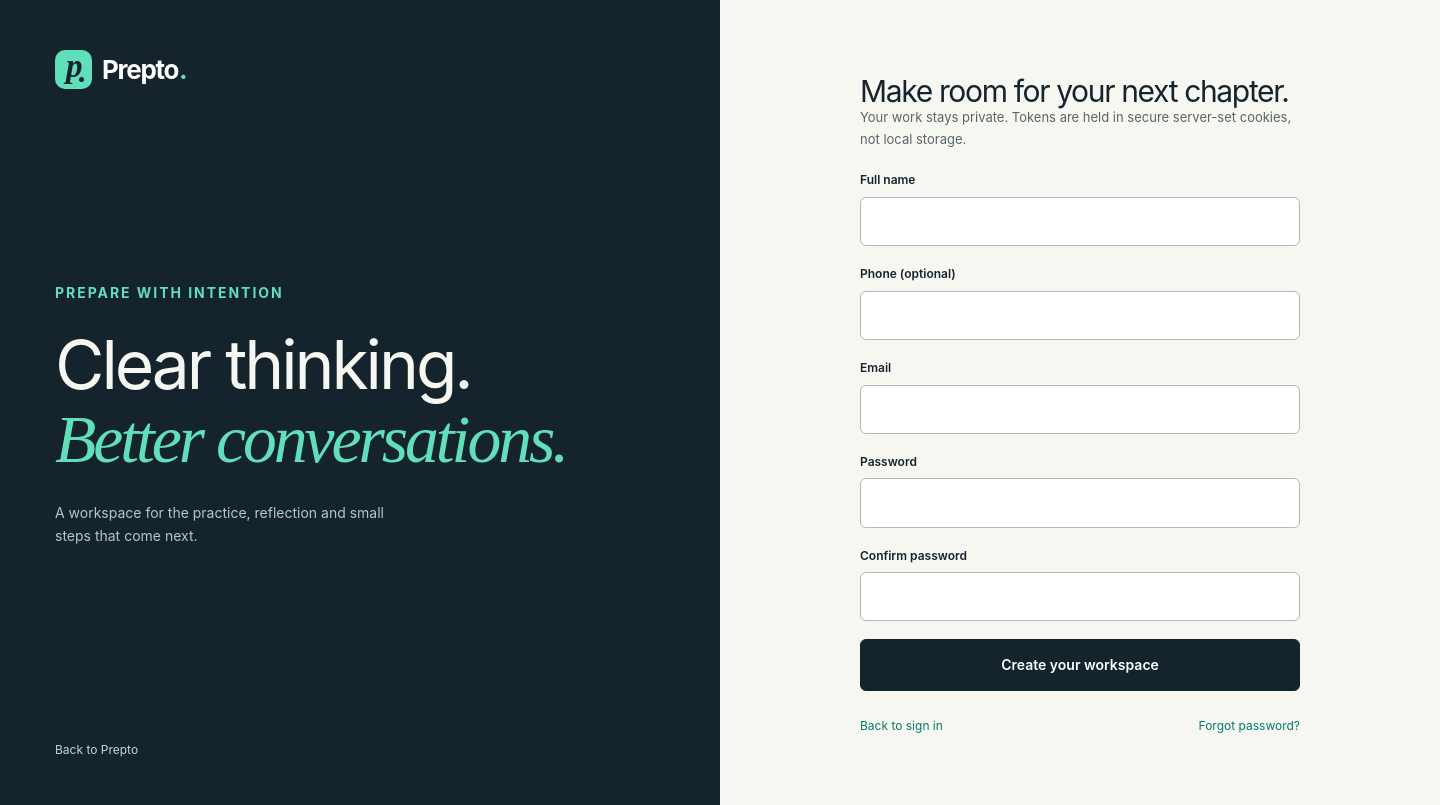
Test: registration provider rejection keeps the form usable without revealing account existence
The image size is (1440, 805).
Expected: the field labelled "Email" is shown, [860,384,1300,434]
Type "Synthetic" into the field labelled "Full name" at (1080, 221), box [860,197,1300,246]
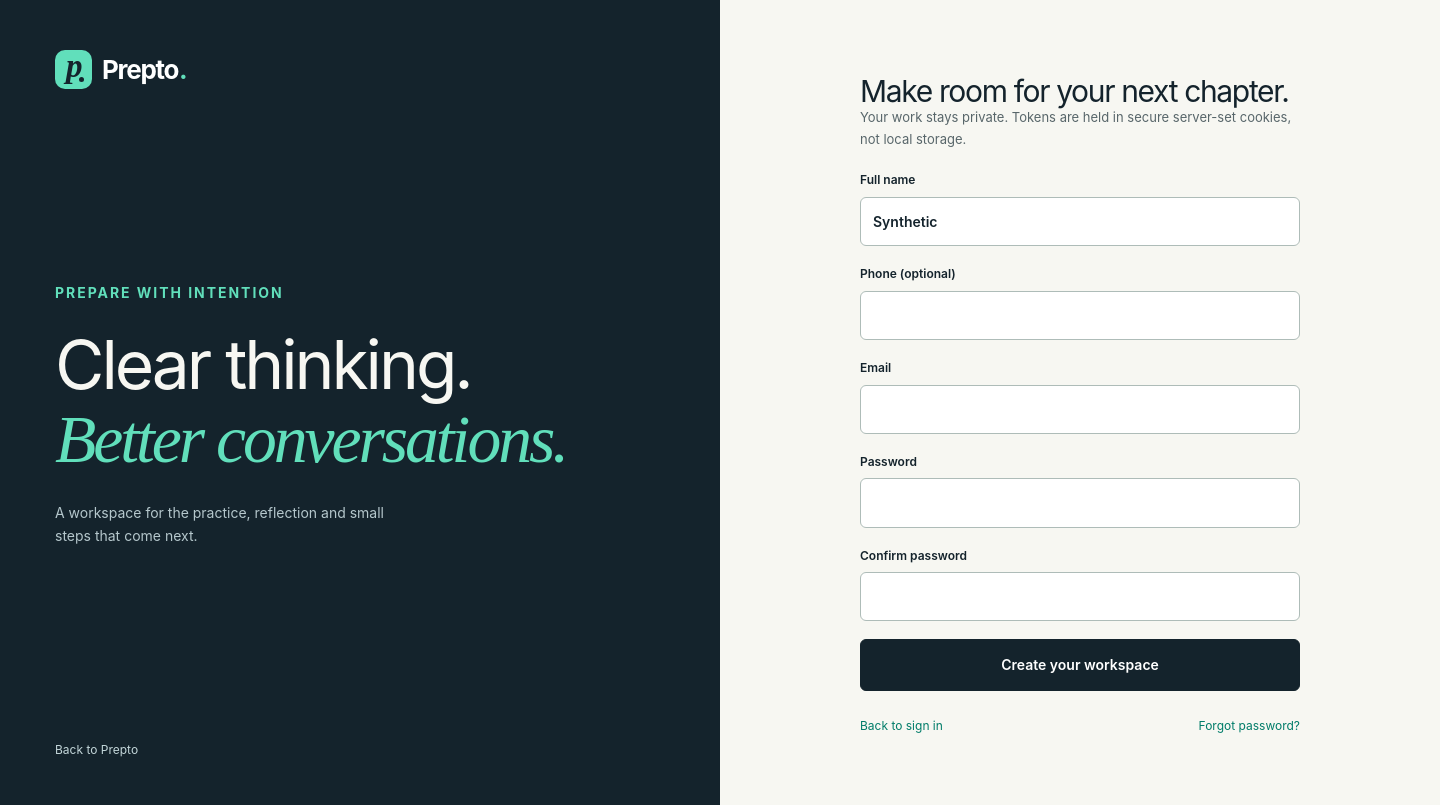
Type "synthetic@example.test" into the field labelled "Email" at (1080, 409), box [860,384,1300,434]
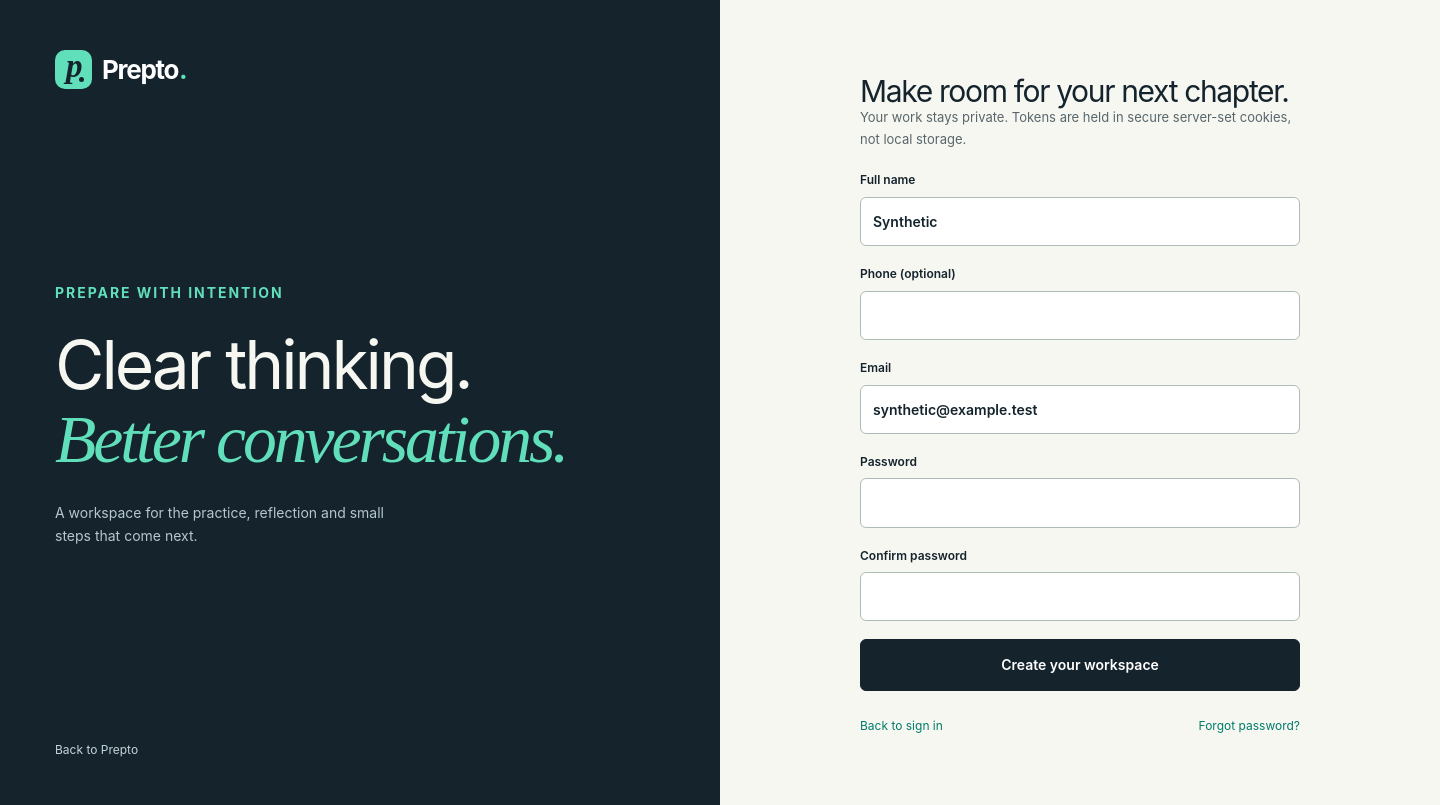
Type "synthetic-password" into the password field labelled "Password" at (1080, 503), box [860,478,1300,528]
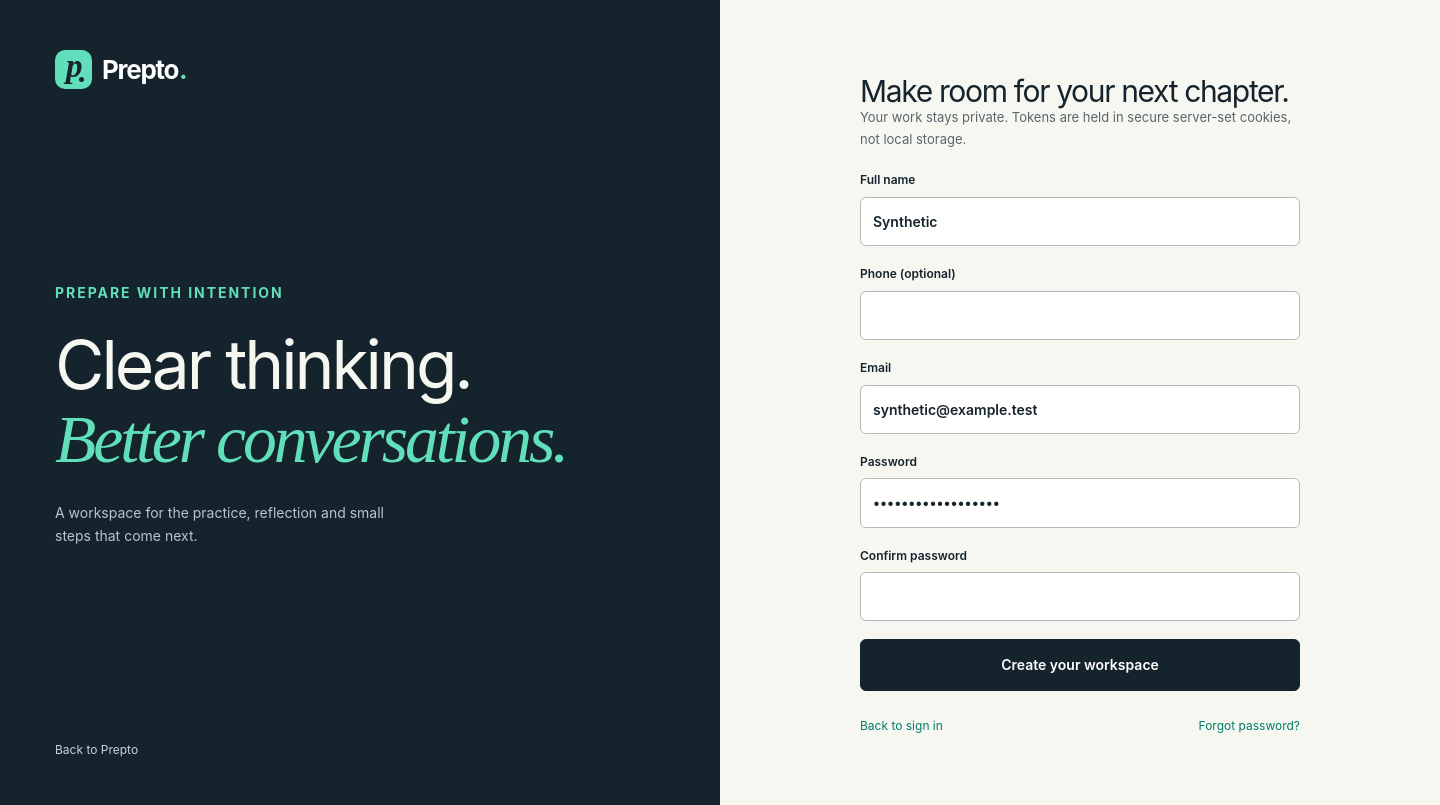
Type "synthetic-password" into the password field labelled "Confirm password" at (1080, 597), box [860,572,1300,621]
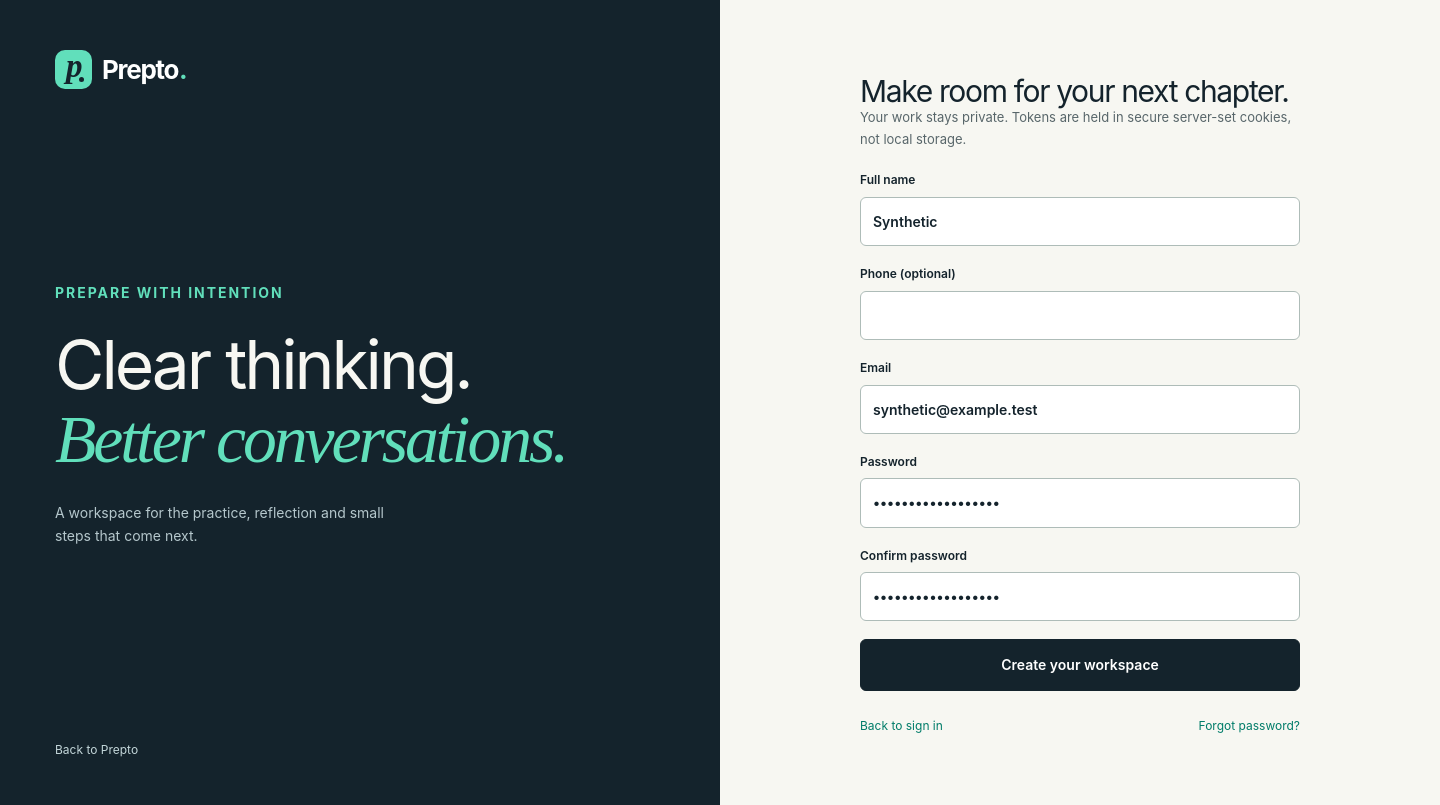
Submit the form "Create your workspace", box [860,170,1300,690]
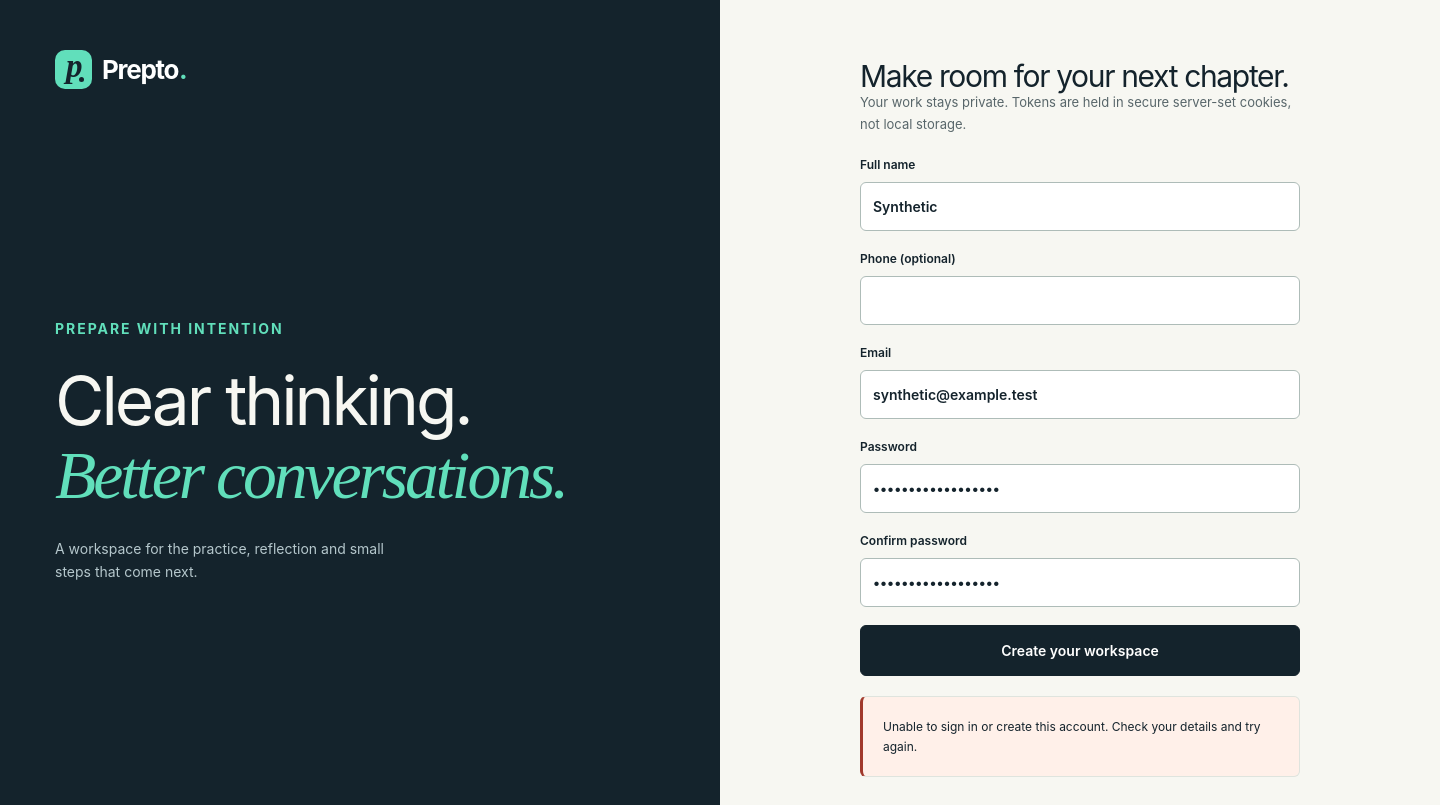
Now the message shows "Unable to sign in or create", box [883,719,1261,754]
